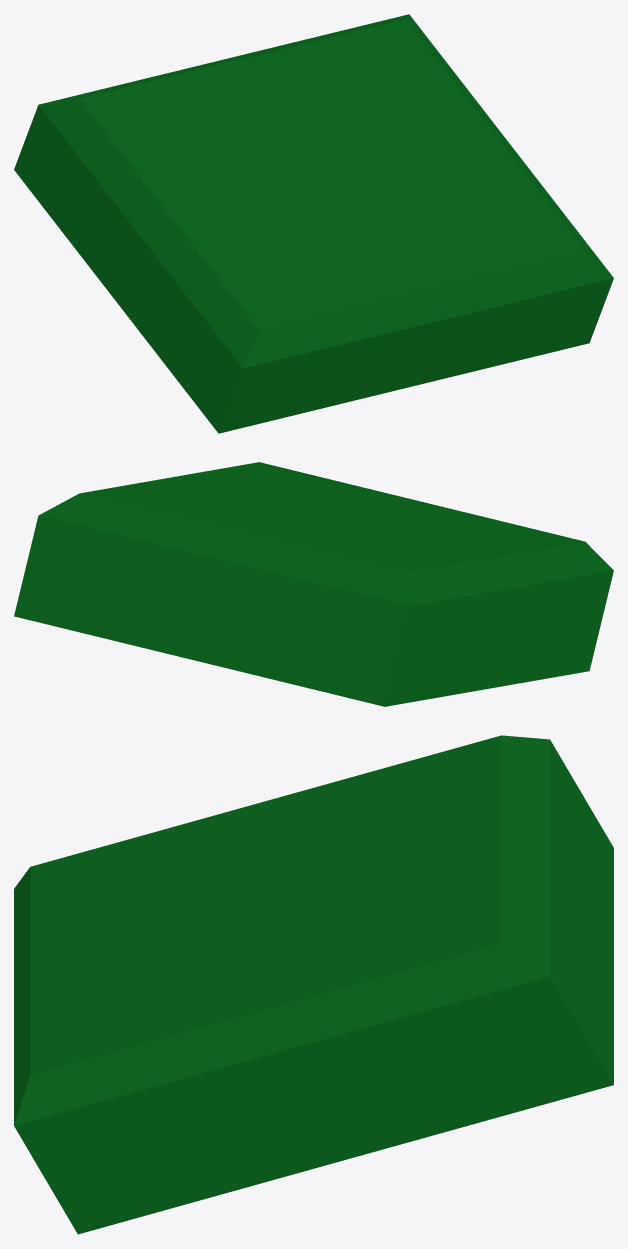
Rendered from green_button.glb.
3 renders of one model, top to bottom at view 1: azimuth 30°, elevation 25°; view 2: azimuth 150°, elevation 25°; view 3: azimuth 270°, elevation 25°, orthographic. The views are drawn at different scales.
Parts seen in each view (by area): view 1: Green_Button; view 2: Green_Button; view 3: Green_Button.
Part boxes in pixels (x1,y1,x2,y2): Green_Button: [14, 14, 613, 433]; Green_Button: [14, 462, 613, 706]; Green_Button: [14, 735, 613, 1234].
Size of what is drawn, in the model's own units: 0.3156 by 0.1716 by 0.3376.
1 material, 1 textured.
